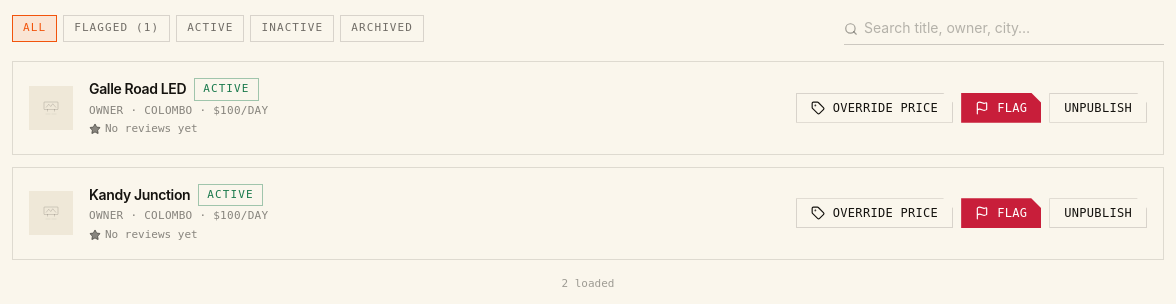
Test: ModerationPanel › filters the loaded rows with the search box
Type "kandy" into the search field named "search loaded billboards".
click(1004, 28); type("kandy")  # box [844,12,1164,45]
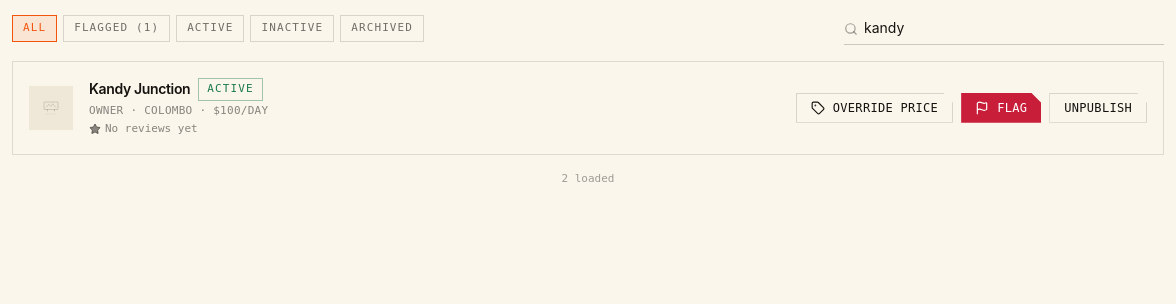
Expected: the text "Kandy Junction" is shown, [89,79,190,99]
Result: the text "Galle Road LED" is gone
